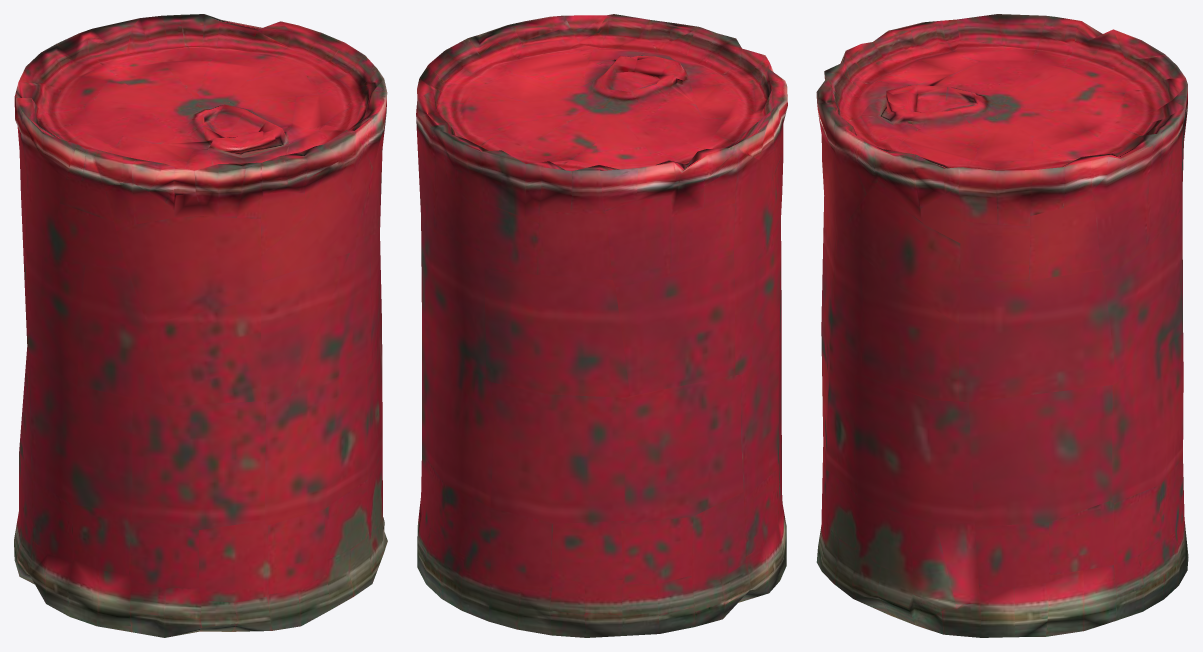
Rendered from can.glb.
3 renders of one model, left to right at view 1: azimuth 30°, elevation 25°; view 2: azimuth 150°, elevation 25°; view 3: azimuth 270°, elevation 25°, orthographic.
Size of the model in its own units: 1.44 by 2 by 1.43.
Materials: 1 (1 with a texture image).
